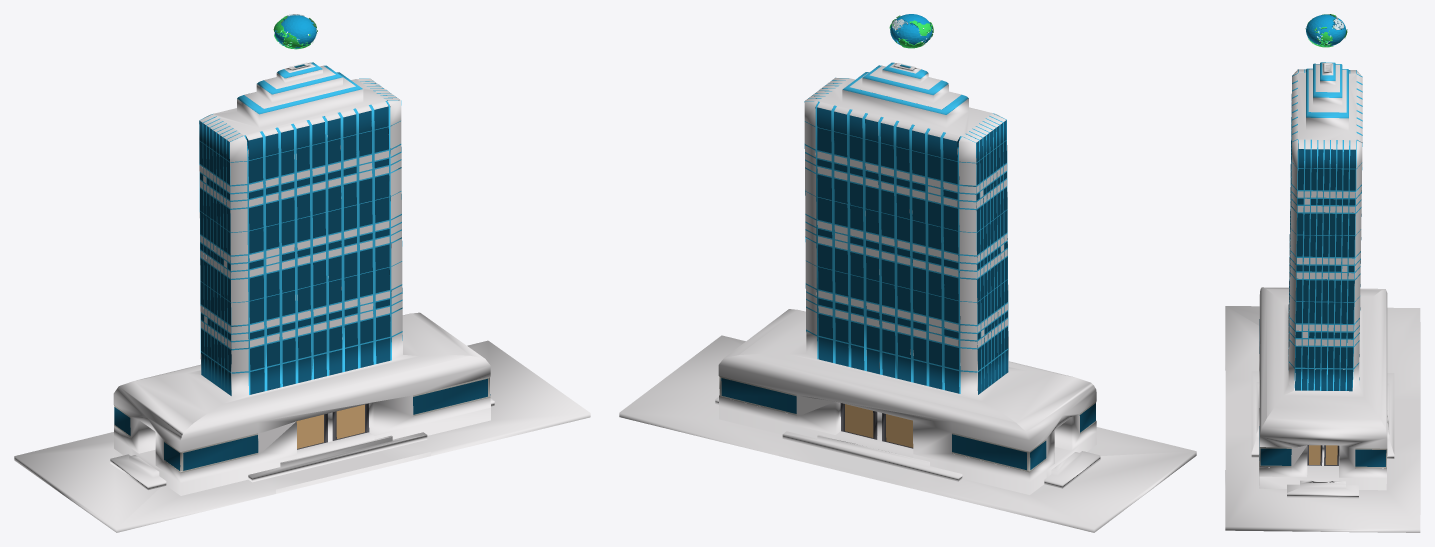
File: global.glb
3 renders of one model, left to right at view 1: azimuth 30°, elevation 25°; view 2: azimuth 150°, elevation 25°; view 3: azimuth 270°, elevation 25°, orthographic. The views are drawn at different scales.
Visible parts, largest first — view 1: new tower.005; view 2: new tower.005; view 3: new tower.005.
Boxes of the visible parts, <box> form: new tower.005: <box>14,14,590,532</box>; new tower.005: <box>619,14,1196,532</box>; new tower.005: <box>1225,14,1420,532</box>.
Size of the model in its own units: 1197 by 1020 by 448.
Materials: 1 (1 with a texture image).
